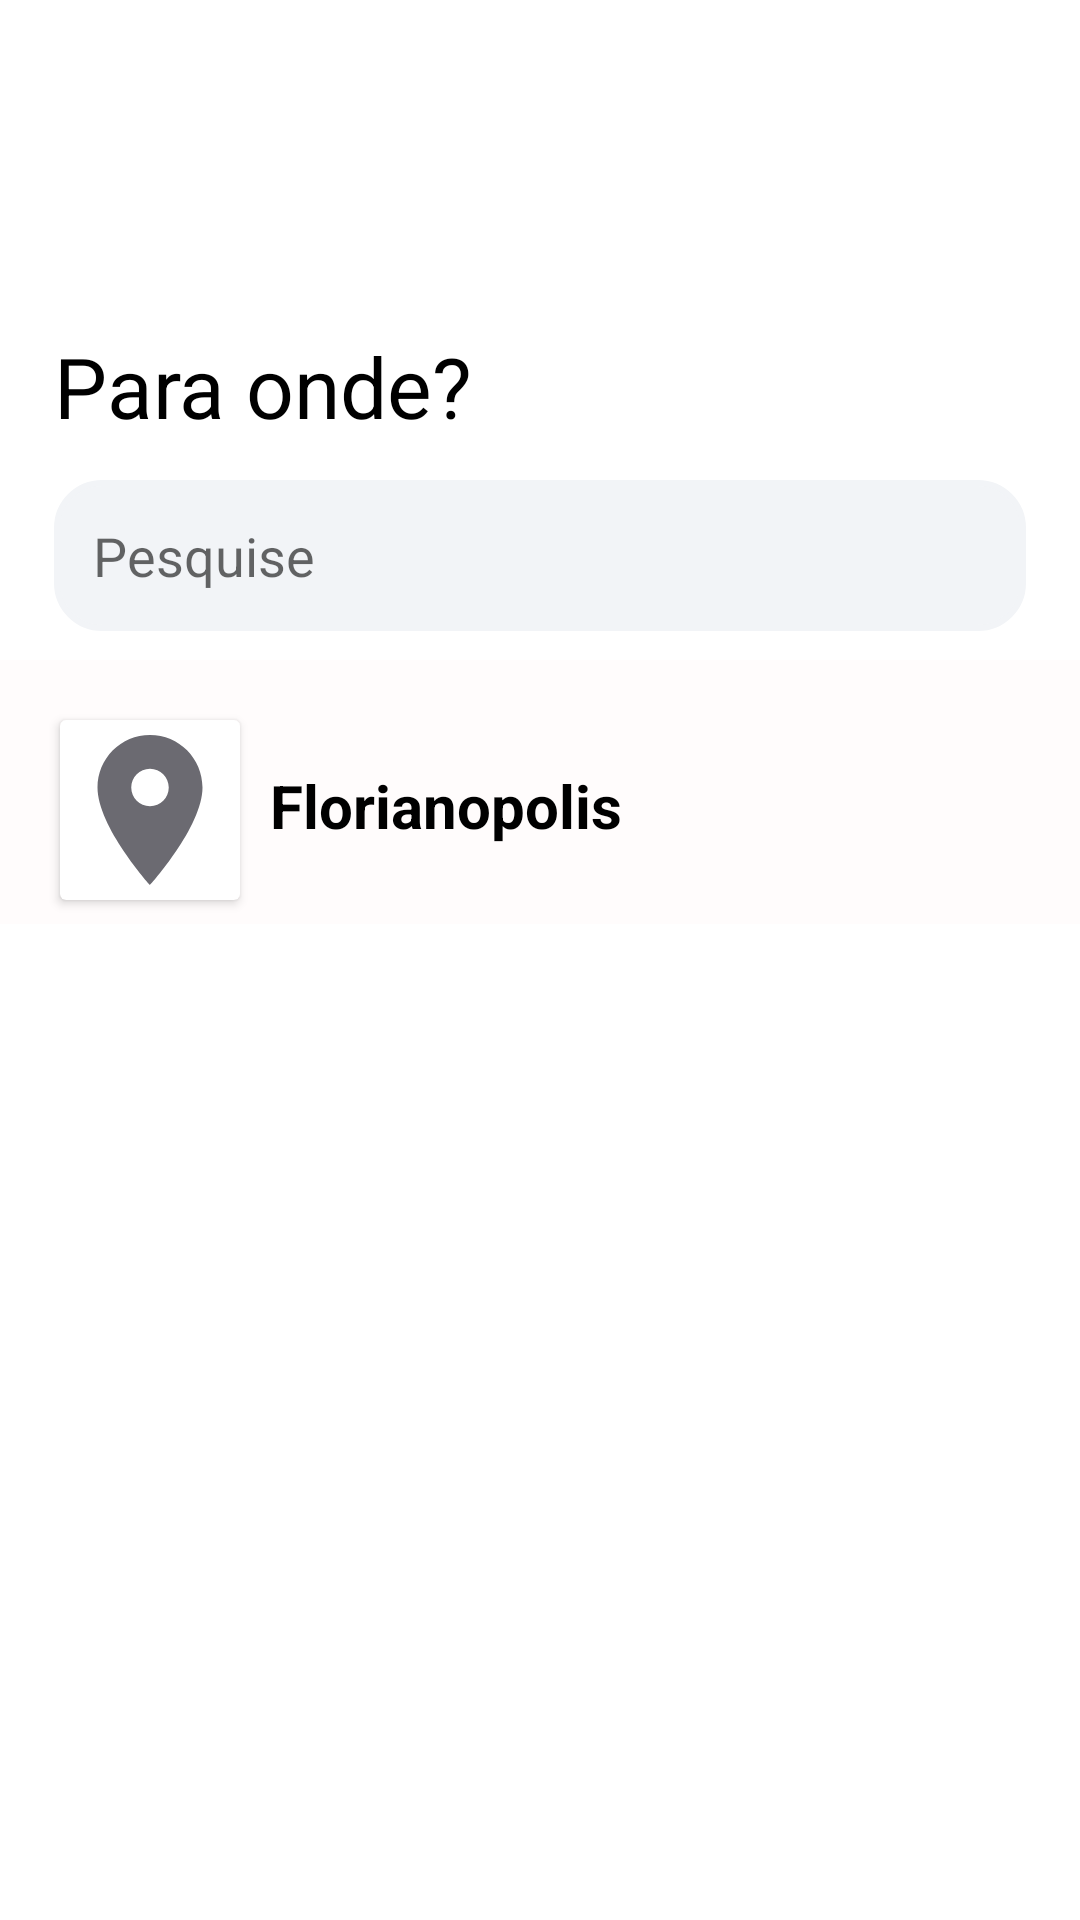

Screen size 1080px x 1920px. Icon name, then its center in pixels as [x,y]:
local: [150,817]
